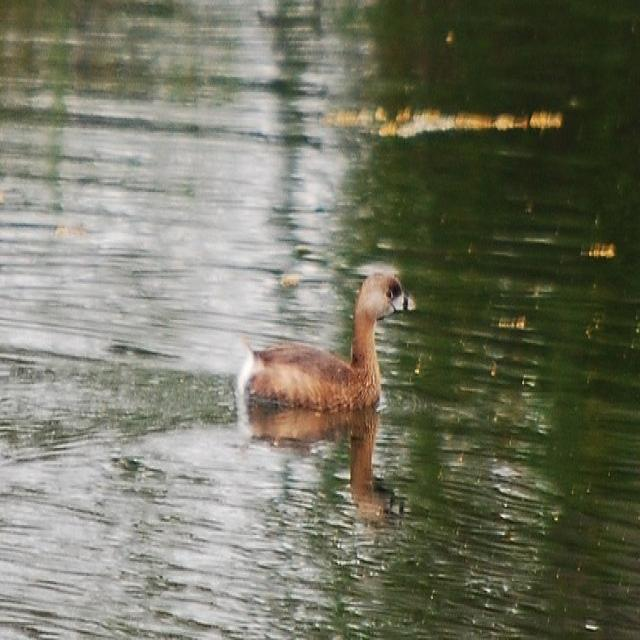bird: (224, 275, 405, 442)
